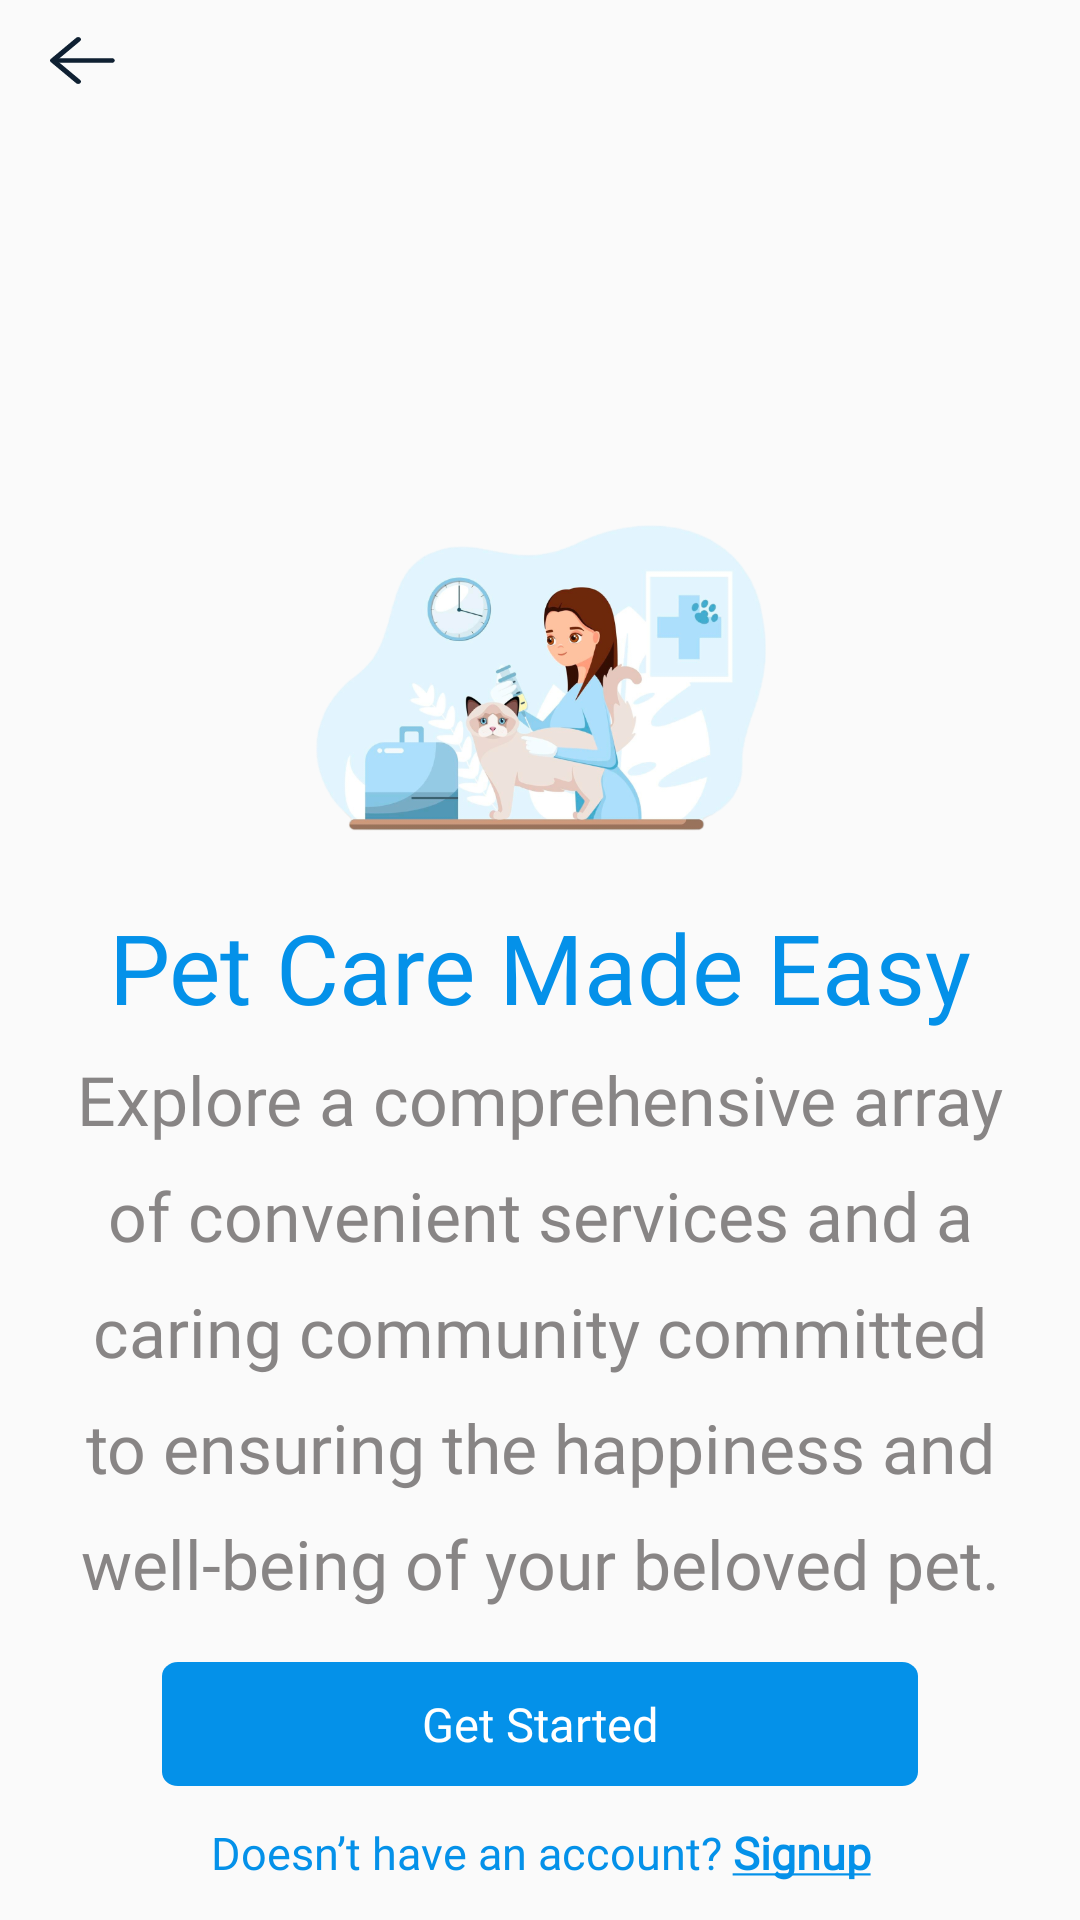

Named icons in this screenshot (1080x1920) and their centers, [x,y]:
arrow back: [82,60]
